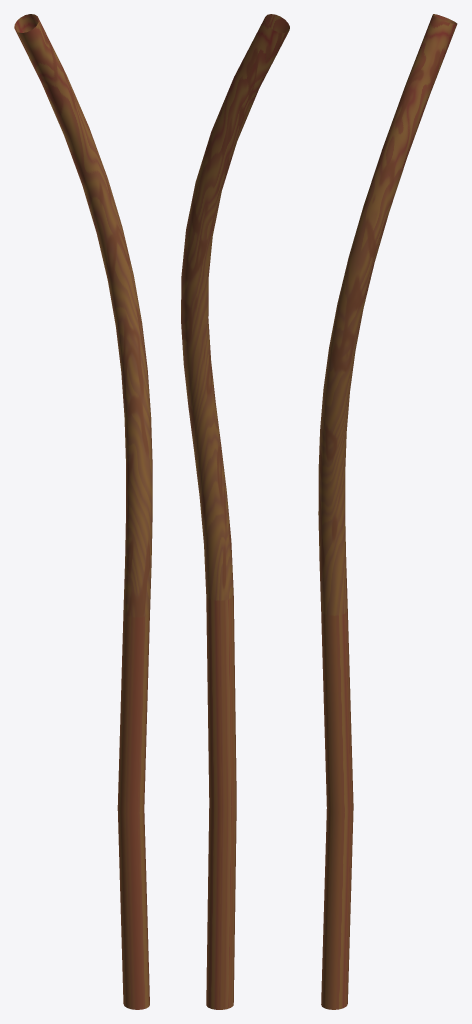
3 renders of one model, left to right at view 1: azimuth 90°, elevation 25°; view 2: azimuth 210°, elevation 25°; view 3: azimuth 270°, elevation 25°, orthographic. The views are drawn at different scales.
Parts seen in each view (by area): view 1: BezierCurve.026; view 2: BezierCurve.026; view 3: BezierCurve.026.
Boxes of the visible parts, box(x1,y1,x2,y2) form: BezierCurve.026: box(14, 14, 152, 1009); BezierCurve.026: box(181, 14, 289, 1009); BezierCurve.026: box(318, 14, 457, 1009).
Size of the model in its own units: 1.52 by 25.42 by 3.23.
Materials: 1 (1 with a texture image).
